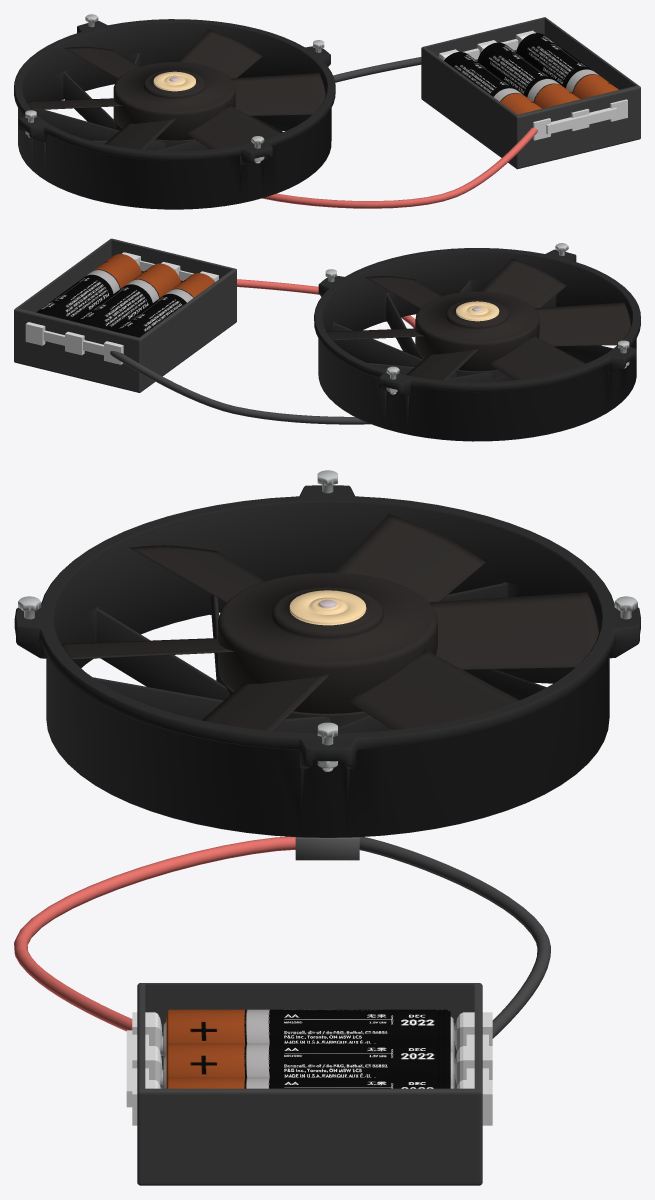
Rendered from fan2.glb.
The picture shows the model from 3 angles, top to bottom: view 1: azimuth 30°, elevation 25°; view 2: azimuth 150°, elevation 25°; view 3: azimuth 270°, elevation 25°; orthographic projection. The views are drawn at different scales.
Visible parts, largest first — view 1: Fan-housing, Fan-Blades, Plane, Circle.002, Circle.001, BézierCurve.001, Circle, Cube.007, BézierCurve; view 2: Fan-housing, Fan-Blades, Plane, Circle.002, Circle.001, BézierCurve, Circle, BézierCurve.001, Cube.006, Cube.004, Cube.002, Cube; view 3: Fan-housing, Fan-Blades, Plane, Circle, Circle.001, BézierCurve.001, BézierCurve, Circle.002, Fan-housing.002.
Boxes of the visible parts, bbox=[...] form: Fan-housing: bbox=[14, 19, 335, 209]; Fan-Blades: bbox=[26, 29, 325, 149]; Plane: bbox=[421, 17, 640, 169]; Circle.002: bbox=[516, 33, 618, 99]; Circle.001: bbox=[477, 42, 579, 108]; BézierCurve.001: bbox=[262, 127, 537, 208]; Circle: bbox=[444, 52, 541, 114]; Cube.007: bbox=[546, 107, 617, 134]; BézierCurve: bbox=[333, 57, 421, 82]; Fan-housing: bbox=[314, 248, 640, 441]; Fan-Blades: bbox=[327, 258, 630, 380]; Plane: bbox=[14, 238, 236, 392]; Circle.002: bbox=[36, 254, 141, 321]; Circle.001: bbox=[76, 263, 180, 331]; BézierCurve: bbox=[110, 351, 370, 424]; Circle: bbox=[114, 273, 214, 337]; BézierCurve.001: bbox=[237, 279, 415, 328]; Cube.006: bbox=[43, 330, 103, 355]; Cube.004: bbox=[25, 322, 45, 345]; Cube.002: bbox=[65, 331, 84, 355]; Cube: bbox=[104, 341, 123, 364]; Fan-housing: bbox=[14, 485, 640, 837]; Fan-Blades: bbox=[61, 514, 598, 730]; Plane: bbox=[137, 983, 482, 1185]; Circle: bbox=[160, 1009, 454, 1059]; Circle.001: bbox=[160, 1043, 454, 1088]; BézierCurve.001: bbox=[14, 836, 295, 1031]; BézierCurve: bbox=[359, 837, 550, 1038]; Circle.002: bbox=[166, 1077, 453, 1088]; Fan-housing.002: bbox=[295, 837, 359, 860].
Bounding box in the file's own units: 0.409 × 0.086 × 0.219.
11 materials, 1 textured.
